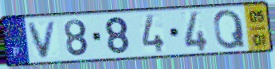4: (183, 9, 210, 53), (141, 13, 167, 55)
8: (104, 15, 132, 56), (63, 18, 90, 58)
Q: (212, 8, 248, 51)
V: (26, 19, 59, 60)
